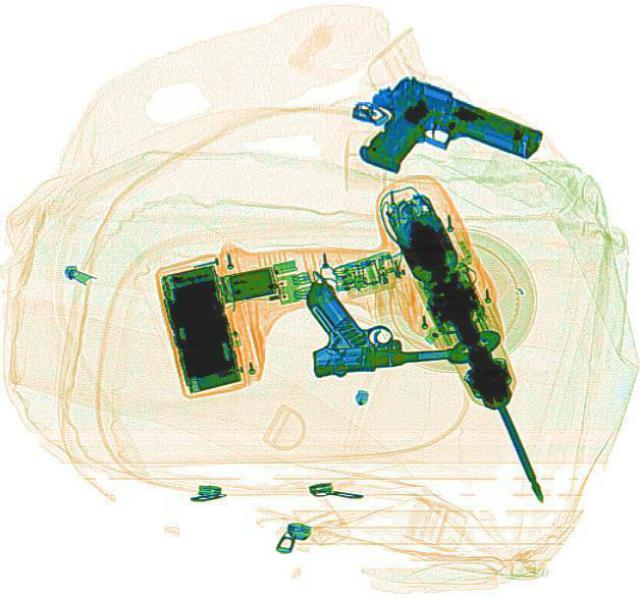Gun: (339, 64, 547, 213), (299, 265, 493, 376)
